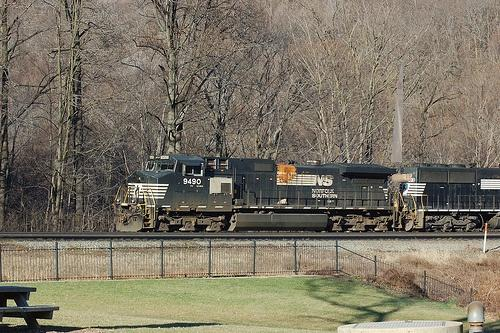tampered: (392, 55, 412, 182)
